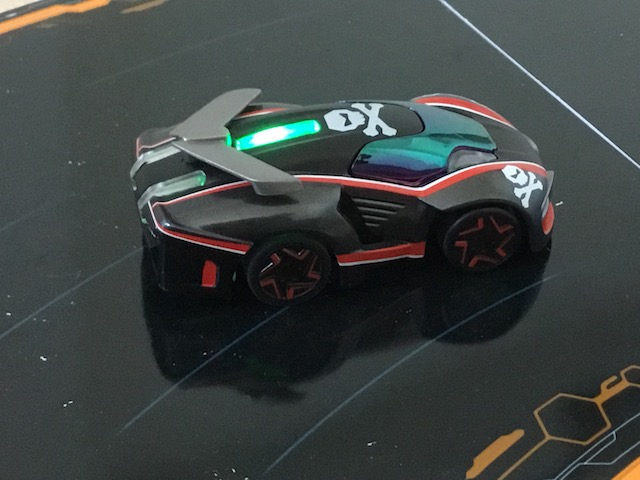car-red: (129, 82, 560, 310)
